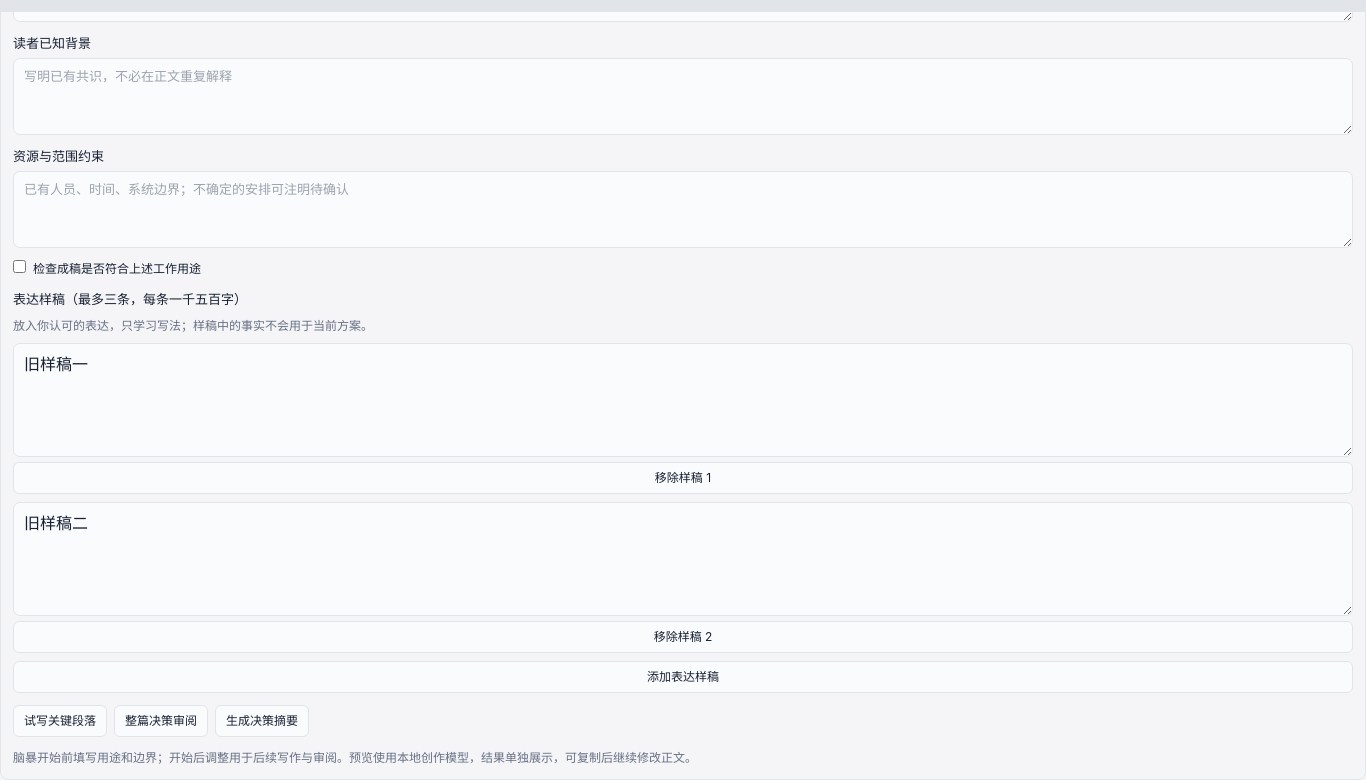
it: 工作文档设置与只读预览 › 试写只显示候选，必须主动认可才保存样稿，满额不删除旧样稿
(page scrolled)
Click the button "试写关键段落" at (60, 721), box top-left (13, 705), bottom-right (107, 737)
(page scrolled)
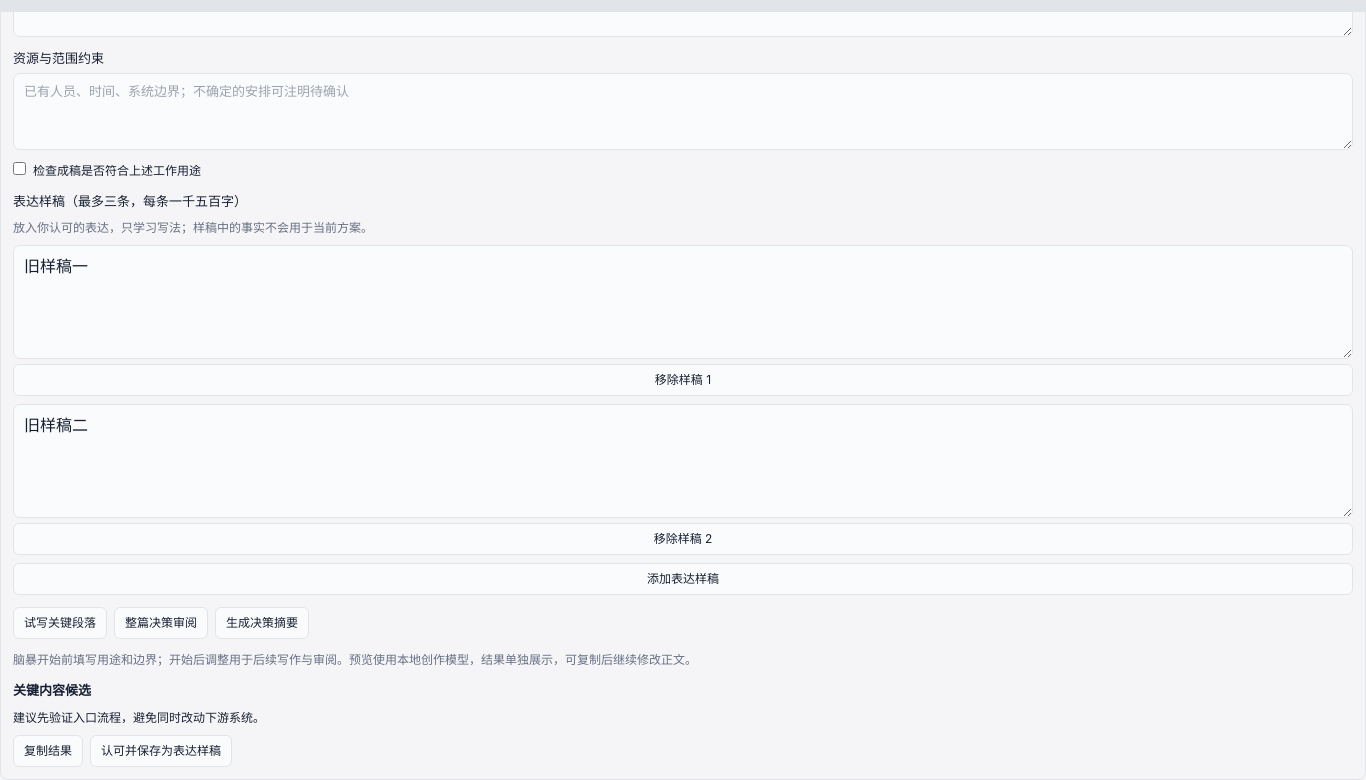
Now the text "建议先验证入口流程，避免同时改动下游系统。" is shown, box top-left (13, 710), bottom-right (265, 724)
Click the button "认可并保存为表达样稿" at (161, 750), box top-left (90, 734), bottom-right (232, 766)
(page scrolled)
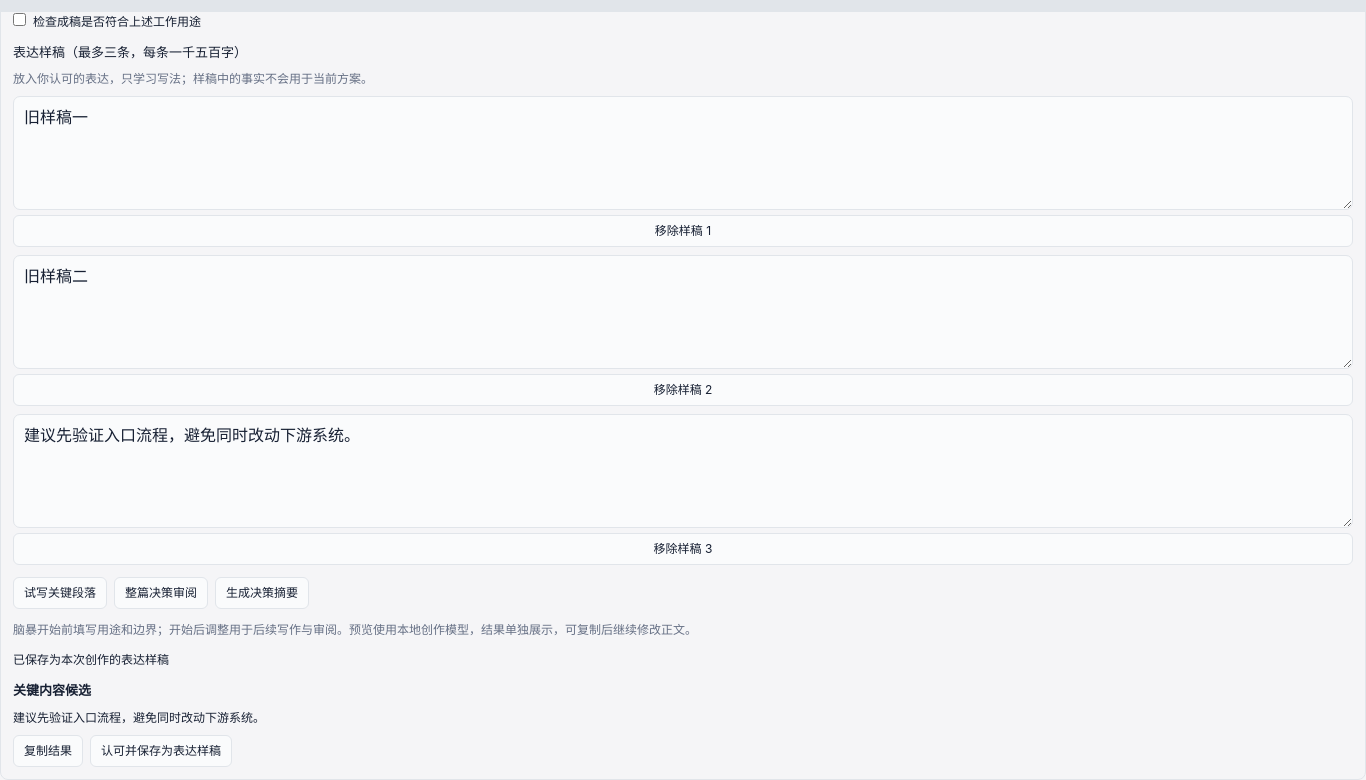
Click the button "认可并保存为表达样稿" at (161, 750), box top-left (90, 734), bottom-right (232, 766)
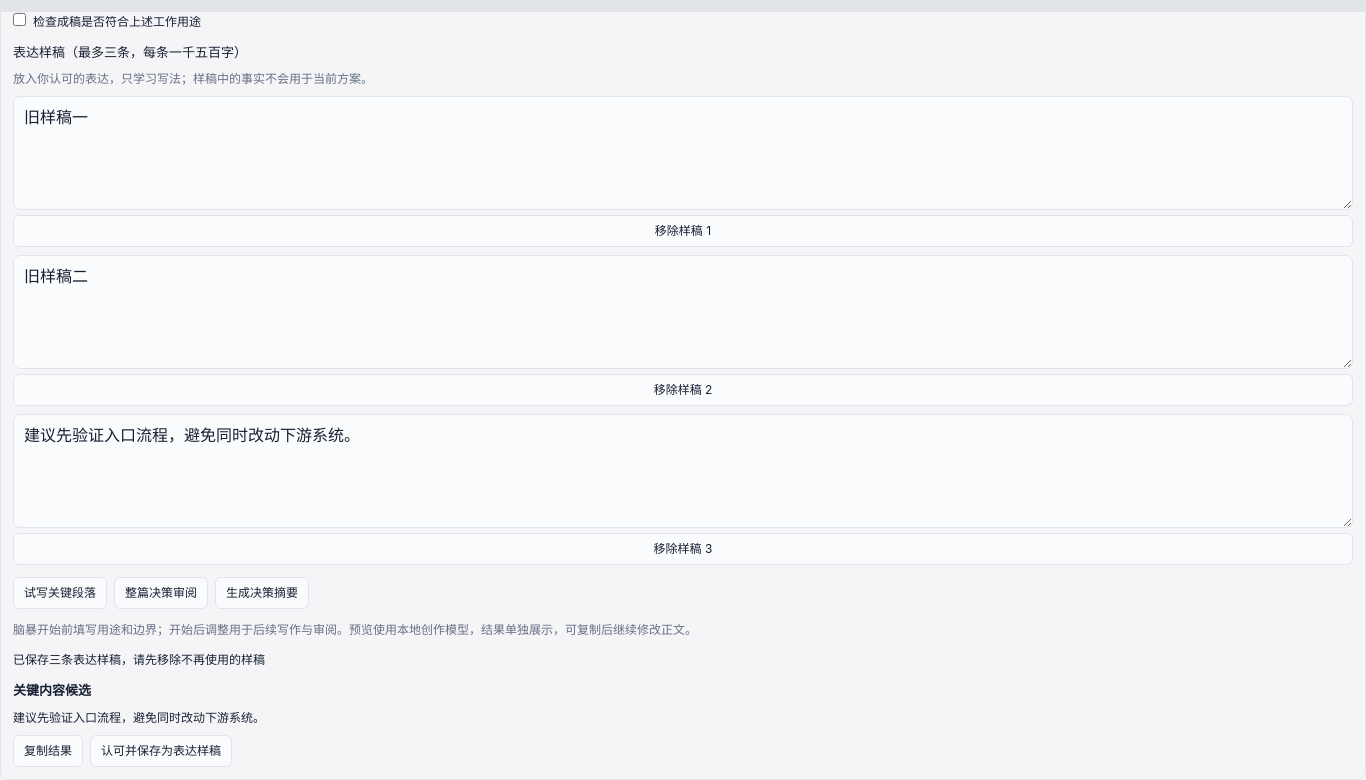
Now the number of text boxes is 3, box top-left (13, 96), bottom-right (1353, 210); top-left (13, 255), bottom-right (1353, 369); top-left (13, 414), bottom-right (1353, 528)
Now the message shows "已保存三条表达样稿", box top-left (13, 652), bottom-right (265, 667)
